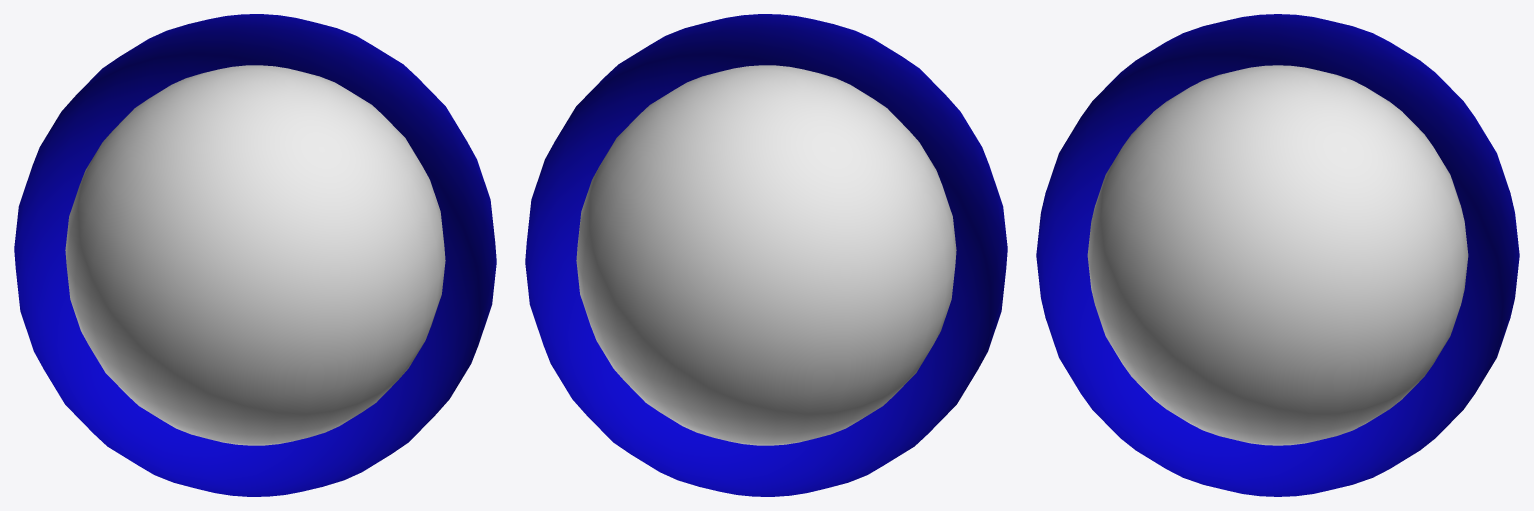
3 views of the same model, side by side, from view 1: azimuth 30°, elevation 25°; view 2: azimuth 150°, elevation 25°; view 3: azimuth 270°, elevation 25° (orthographic).
Parts seen in each view (by area): view 1: Sphere; view 2: Sphere; view 3: Sphere.
Part boxes in pixels (left/top/right/bottom): Sphere: left=14, top=14, right=496, bottom=496; Sphere: left=525, top=14, right=1007, bottom=496; Sphere: left=1036, top=14, right=1519, bottom=496.
Bounding box in the file's own units: 25 × 25 × 25.
